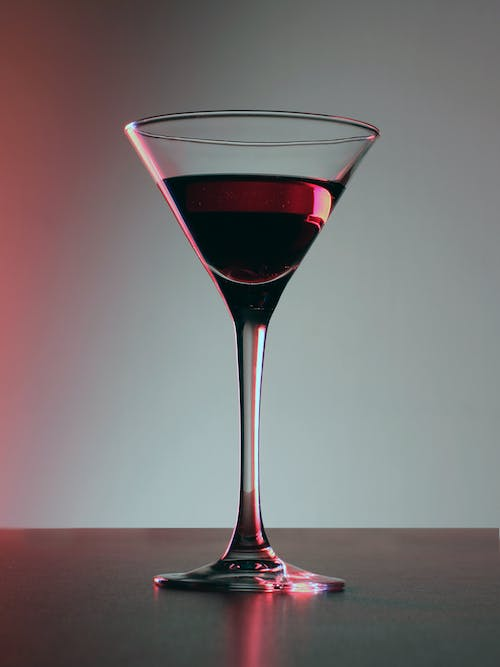alcohol: (122, 107, 382, 595)
